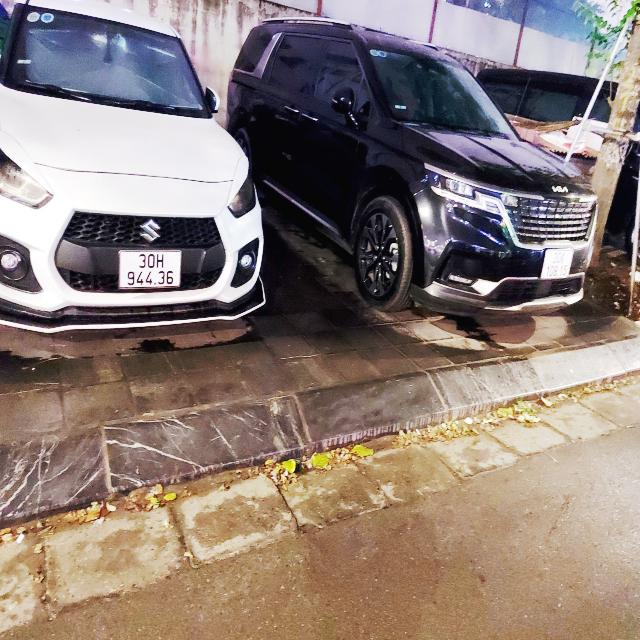license_plate: (117, 248, 186, 293), (539, 248, 577, 282)
